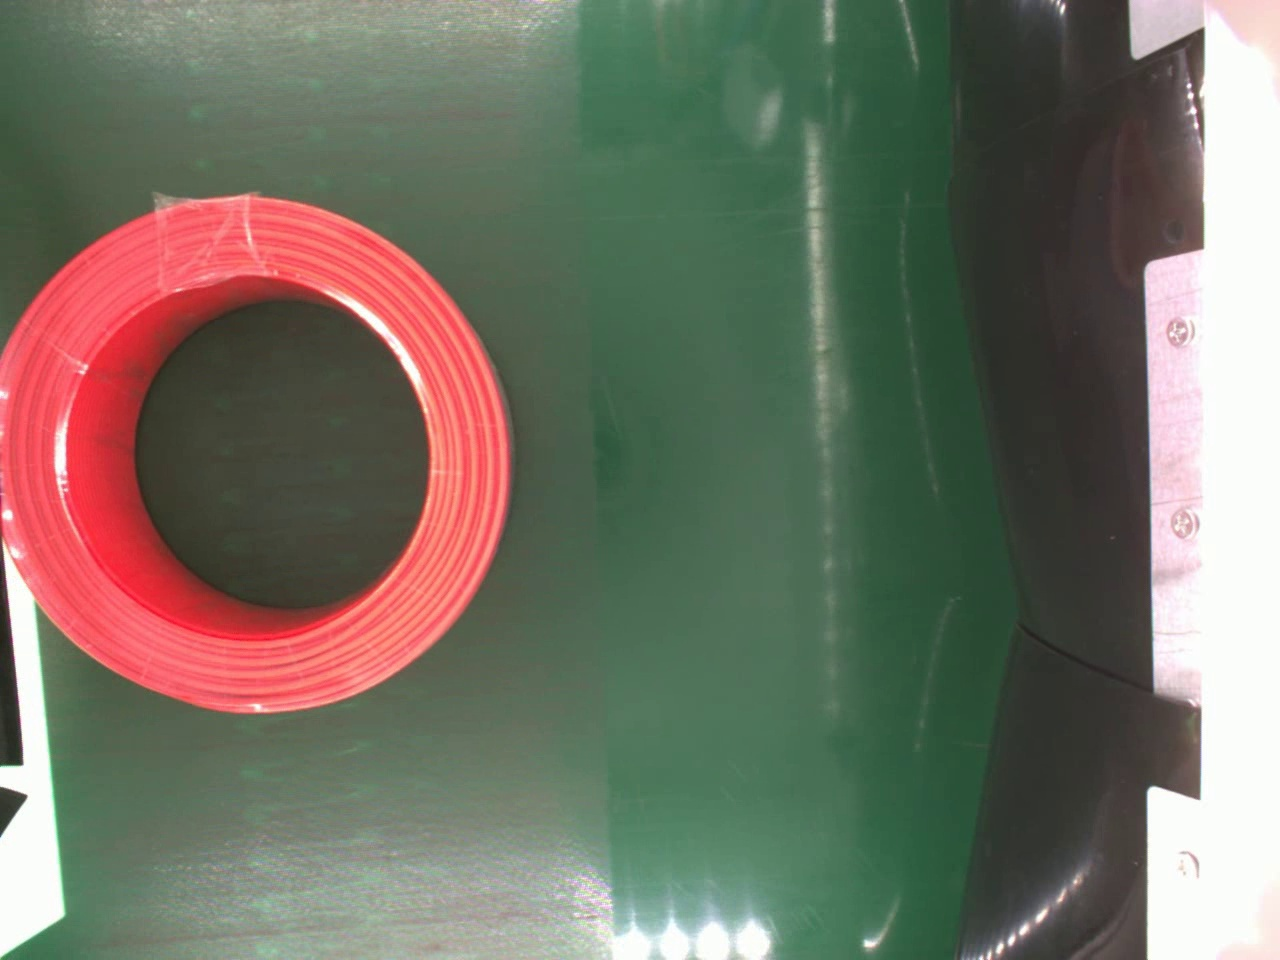red: (0, 190, 515, 719)
